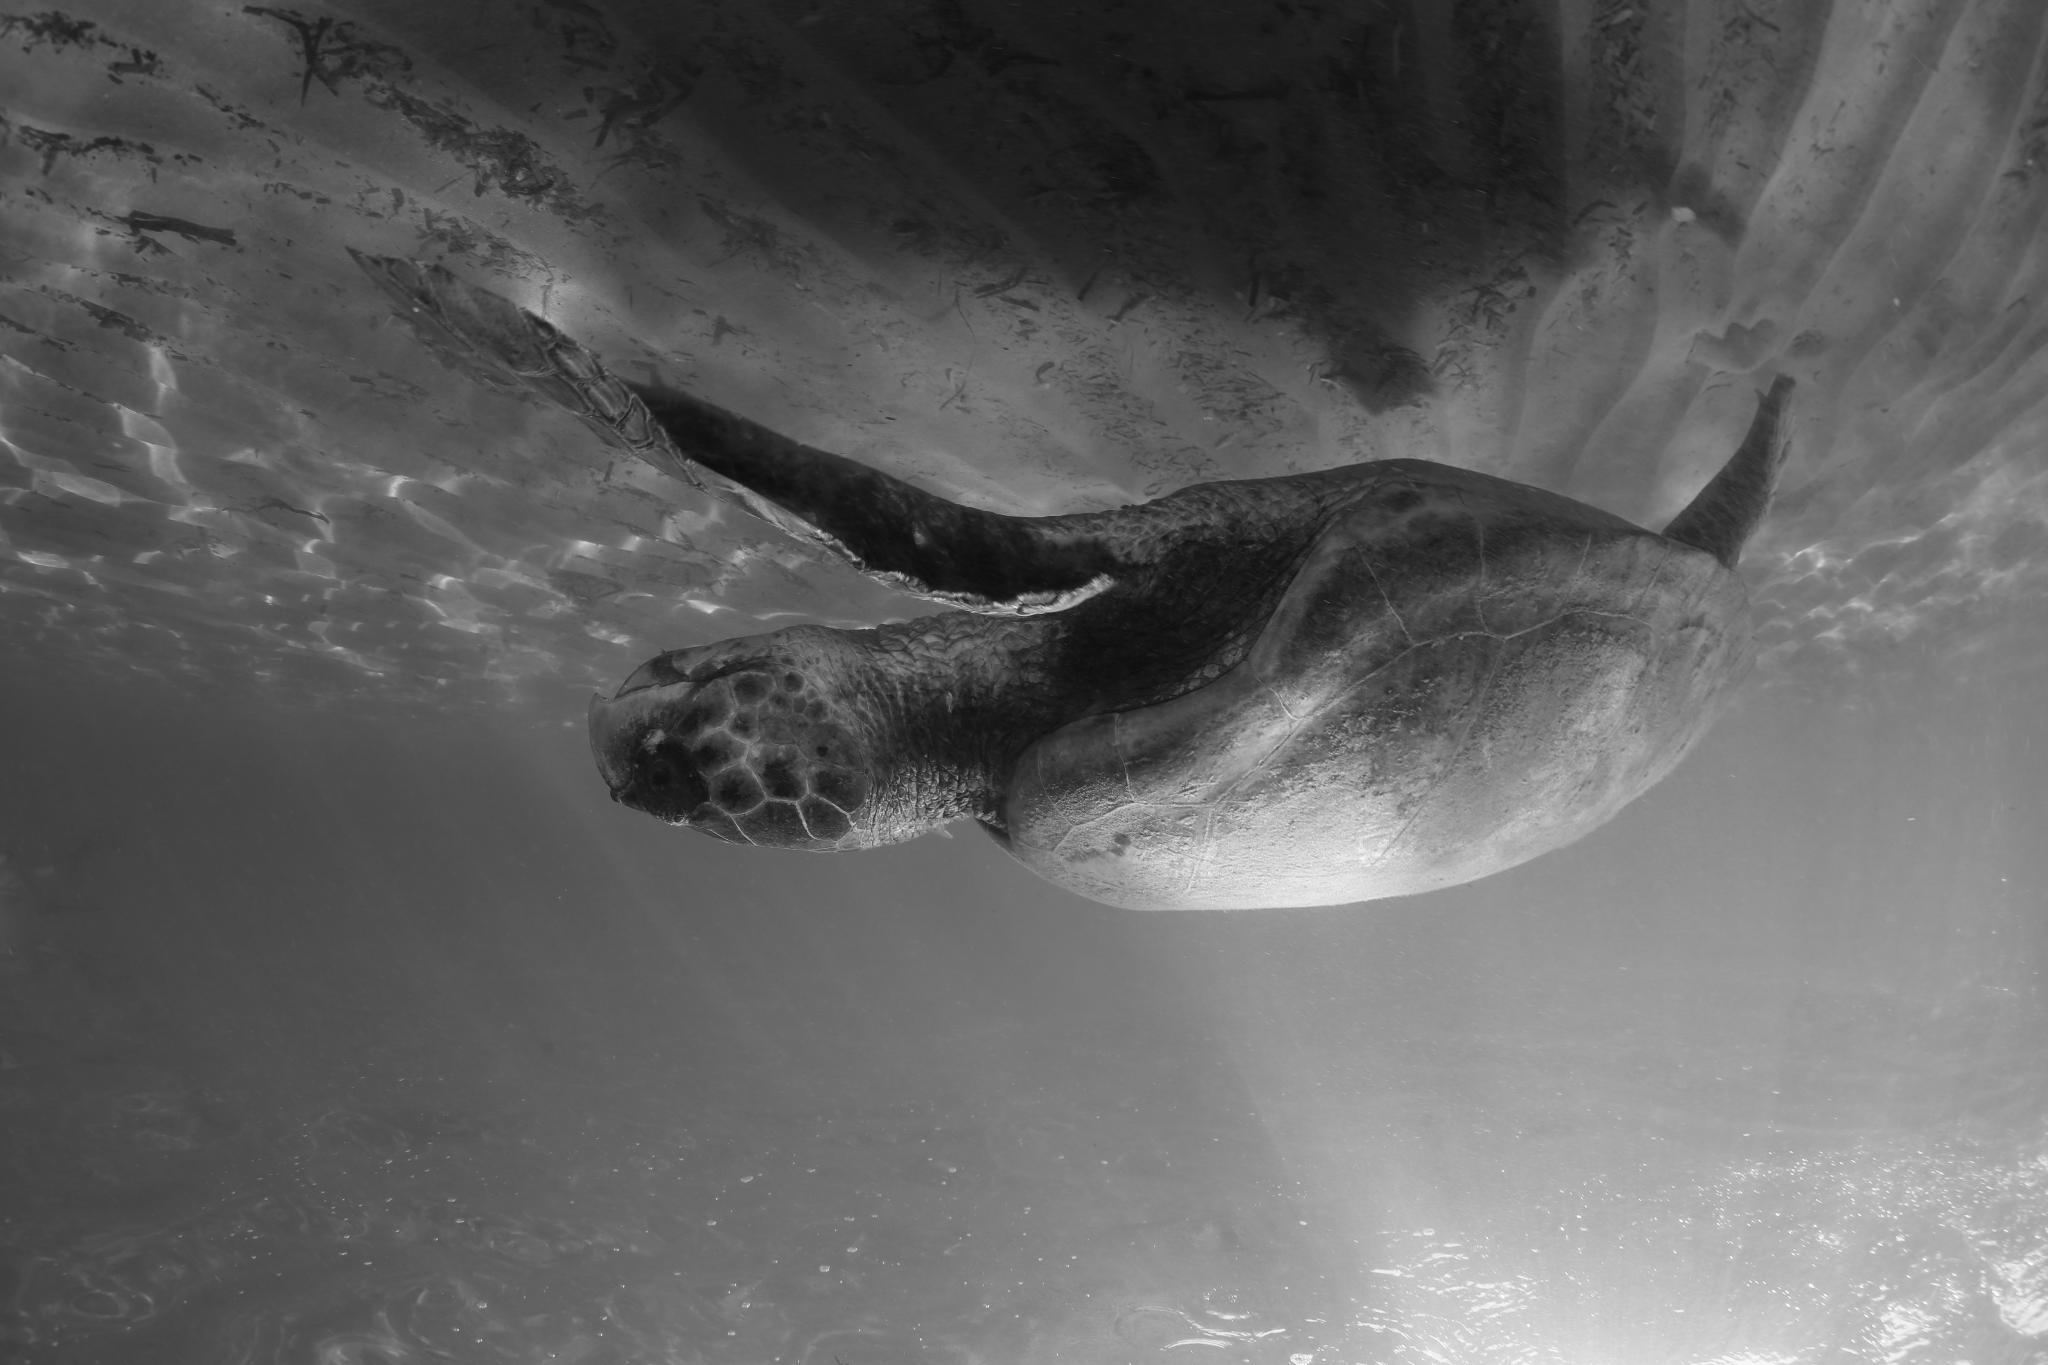Head: (590, 615, 983, 851)
